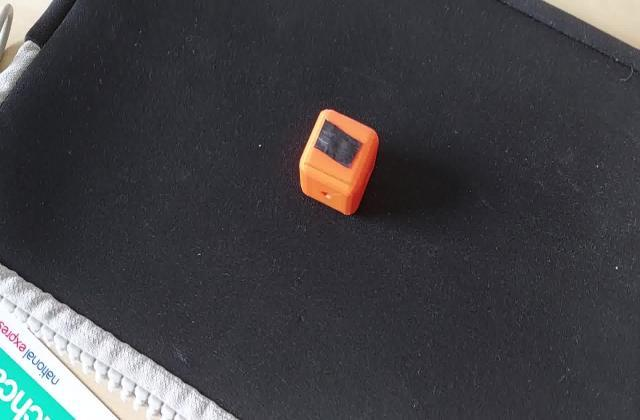black: (313, 126, 369, 171)
sticker: (298, 105, 386, 219)
